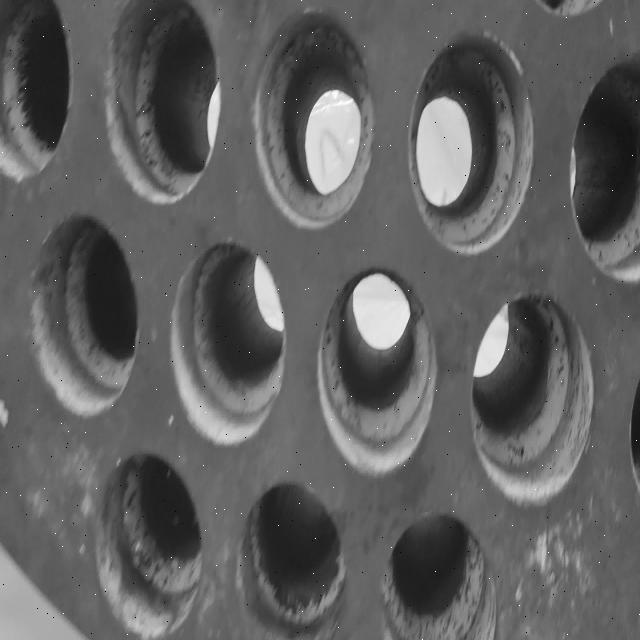Hole: (408, 28, 534, 255), (253, 8, 375, 230), (472, 290, 594, 506), (319, 266, 438, 474), (169, 239, 286, 446), (104, 0, 221, 205), (29, 212, 140, 417), (95, 448, 204, 638), (235, 479, 347, 638), (570, 53, 640, 284), (381, 512, 496, 640), (0, 7, 72, 184)
